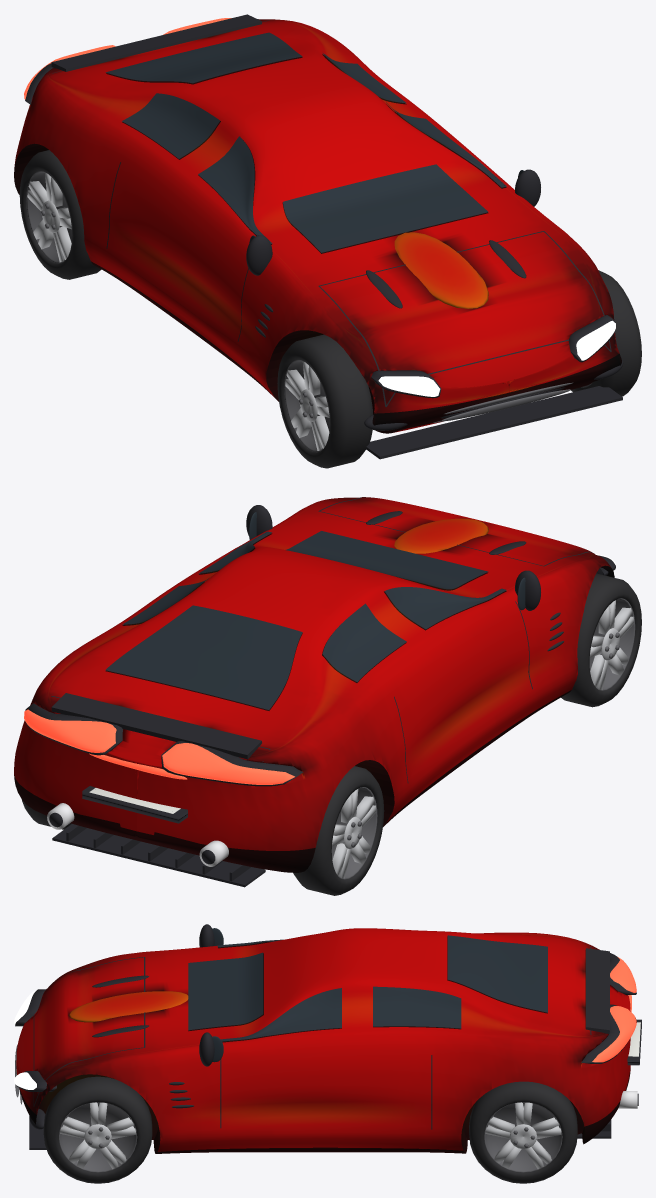
The model's file is kestrel.glb.
3 views of the same model, one above another, from view 1: azimuth 30°, elevation 25°; view 2: azimuth 150°, elevation 25°; view 3: azimuth 270°, elevation 25° (orthographic). The views are drawn at different scales.
Visible parts, largest first — view 1: a_body, b_glass, wheel_fl, wheel_rl, splitter, wheel_fr, spoiler, lamp_head_l, mirror_l, lamp_head_r, grille_bar.001, mirror_r; view 2: a_body, b_glass, wheel_rl, wheel_fl, spoiler, diffuser, lamp_tail_l, lamp_tail_r, lamp_tail_l_bezel, plate_recess, lamp_tail_r_bezel, mirror_l (+2 smaller); view 3: a_body, b_glass, wheel_fr, wheel_rr, spoiler, lamp_tail_r, lamp_tail_r_bezel, lamp_tail_l, mirror_r, lamp_head_l_bezel.
Boxes of the visible parts, x1,y1,x2,y2 form: a_body: (14,19,621,433); b_glass: (105,32,506,252); wheel_fl: (277,334,372,468); wheel_rl: (19,150,101,279); splitter: (365,386,622,459); wheel_fr: (571,270,641,396); spoiler: (51,14,261,71); lamp_head_l: (378,376,440,396); mirror_l: (246,235,272,275); lamp_head_r: (576,320,615,360); grille_bar.001: (440,389,570,421); mirror_r: (515,169,540,206); a_body: (14,497,614,872); b_glass: (105,531,506,709); wheel_rl: (293,766,384,895); wheel_fl: (561,573,641,707); spoiler: (51,693,261,759); diffuser: (52,824,265,887); lamp_tail_l: (162,743,294,784); lamp_tail_r: (24,709,116,752); lamp_tail_l_bezel: (161,741,302,786); plate_recess: (82,786,187,823); lamp_tail_r_bezel: (25,703,122,755); mirror_l: (515,570,540,610); a_body: (16,928,630,1153); b_glass: (188,935,547,1041); wheel_fr: (43,1076,152,1183); wheel_rr: (469,1081,577,1183); spoiler: (585,948,609,1033); lamp_tail_r: (592,1006,636,1062); lamp_tail_r_bezel: (581,1004,636,1063); lamp_tail_l: (610,957,636,992); mirror_r: (199,1032,214,1066); lamp_head_l_bezel: (15,989,45,1026).
Bounding box in the file's own units: 1.72 × 1.11 × 3.63.
